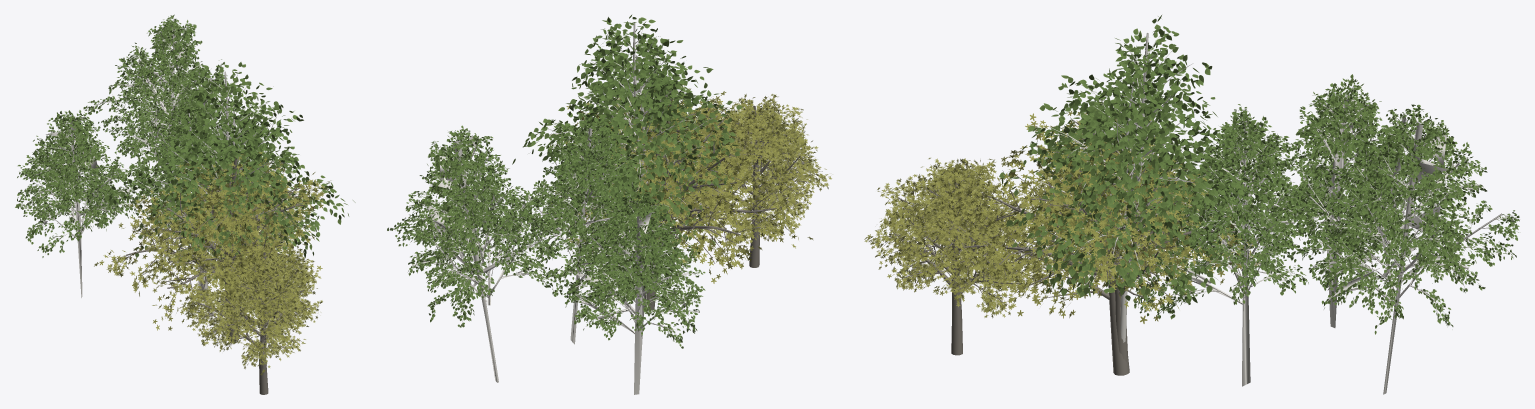
The model's file is baeume.glb.
3 renders of one model, left to right at view 1: azimuth 30°, elevation 25°; view 2: azimuth 150°, elevation 25°; view 3: azimuth 270°, elevation 25°, orthographic. The views are drawn at different scales.
Visible parts, largest first — view 1: WEBK_Kulisse_Ahorn_B, WEBK_Kulisse_Birke_A, WEBB_Baum_Ahorn_1_Laub, WEBB_Baum_Birke_3_Laub, WEBB_Baum_Birke_2_Laub, WEBK_Kulisse_Birke_B, WEBK_Kulisse_Ahorn_A, WEBB_Baum_Birke_1_Laub, WEBB_Baum_Birke_3, WEBB_Baum_Ahorn_1, WEBB_Baum_Birke_2, WEBB_Baum_Birke_1; view 2: WEBB_Baum_Birke_2_Laub, WEBK_Kulisse_Birke_A, WEBB_Baum_Birke_3_Laub, WEBK_Kulisse_Ahorn_B, WEBB_Baum_Birke_1_Laub, WEBB_Baum_Ahorn_1_Laub, WEBK_Kulisse_Birke_B, WEBB_Baum_Birke_2, WEBK_Kulisse_Ahorn_A, WEBB_Baum_Birke_3, WEBB_Baum_Ahorn_1, WEBB_Baum_Birke_1; view 3: WEBB_Baum_Birke_2_Laub, WEBK_Kulisse_Birke_A, WEBB_Baum_Ahorn_1_Laub, WEBB_Baum_Birke_1_Laub, WEBK_Kulisse_Ahorn_B, WEBK_Kulisse_Birke_B, WEBB_Baum_Birke_3_Laub, WEBK_Kulisse_Ahorn_A, WEBB_Baum_Birke_2, WEBB_Baum_Birke_1, WEBB_Baum_Ahorn_1, WEBB_Baum_Birke_3.
Part boxes in pixels (x1=…): WEBK_Kulisse_Ahorn_B: x1=94, y1=152, x2=330, y2=341; WEBK_Kulisse_Birke_A: x1=99, y1=59, x2=355, y2=257; WEBB_Baum_Ahorn_1_Laub: x1=179, y1=240, x2=322, y2=375; WEBB_Baum_Birke_3_Laub: x1=15, y1=110, x2=151, y2=257; WEBB_Baum_Birke_2_Laub: x1=83, y1=14, x2=266, y2=199; WEBK_Kulisse_Birke_B: x1=150, y1=98, x2=324, y2=276; WEBK_Kulisse_Ahorn_A: x1=154, y1=174, x2=307, y2=318; WEBB_Baum_Birke_1_Laub: x1=134, y1=101, x2=241, y2=285; WEBB_Baum_Birke_3: x1=20, y1=114, x2=138, y2=297; WEBB_Baum_Ahorn_1: x1=190, y1=249, x2=316, y2=394; WEBB_Baum_Birke_2: x1=86, y1=22, x2=256, y2=257; WEBB_Baum_Birke_1: x1=139, y1=111, x2=240, y2=299; WEBB_Baum_Birke_2_Laub: x1=387, y1=125, x2=577, y2=327; WEBK_Kulisse_Birke_A: x1=512, y1=15, x2=742, y2=267; WEBB_Baum_Birke_3_Laub: x1=546, y1=190, x2=705, y2=348; WEBK_Kulisse_Ahorn_B: x1=548, y1=68, x2=812, y2=310; WEBB_Baum_Birke_1_Laub: x1=508, y1=116, x2=665, y2=286; WEBB_Baum_Ahorn_1_Laub: x1=690, y1=94, x2=831, y2=244; WEBK_Kulisse_Birke_B: x1=550, y1=47, x2=741, y2=272; WEBB_Baum_Birke_2: x1=402, y1=135, x2=572, y2=382; WEBK_Kulisse_Ahorn_A: x1=560, y1=118, x2=759, y2=296; WEBB_Baum_Birke_3: x1=553, y1=196, x2=699, y2=394; WEBB_Baum_Ahorn_1: x1=699, y1=102, x2=823, y2=267; WEBB_Baum_Birke_1: x1=519, y1=121, x2=652, y2=344; WEBB_Baum_Birke_2_Laub: x1=1293, y1=104, x2=1519, y2=334; WEBK_Kulisse_Birke_A: x1=999, y1=15, x2=1268, y2=301; WEBB_Baum_Ahorn_1_Laub: x1=864, y1=157, x2=1047, y2=318; WEBB_Baum_Birke_1_Laub: x1=1118, y1=104, x2=1322, y2=319; WEBK_Kulisse_Ahorn_B: x1=937, y1=101, x2=1261, y2=375; WEBK_Kulisse_Birke_B: x1=1011, y1=69, x2=1239, y2=342; WEBB_Baum_Birke_3_Laub: x1=1254, y1=74, x2=1409, y2=279; WEBK_Kulisse_Ahorn_A: x1=998, y1=148, x2=1208, y2=361; WEBB_Baum_Birke_2: x1=1300, y1=110, x2=1520, y2=394; WEBB_Baum_Birke_1: x1=1122, y1=113, x2=1316, y2=386; WEBB_Baum_Ahorn_1: x1=875, y1=163, x2=1035, y2=355; WEBB_Baum_Birke_3: x1=1273, y1=84, x2=1403, y2=327.
Size of the model in its own units: 14.63 by 14.64 by 24.84.
Materials: 4 (2 with a texture image).
